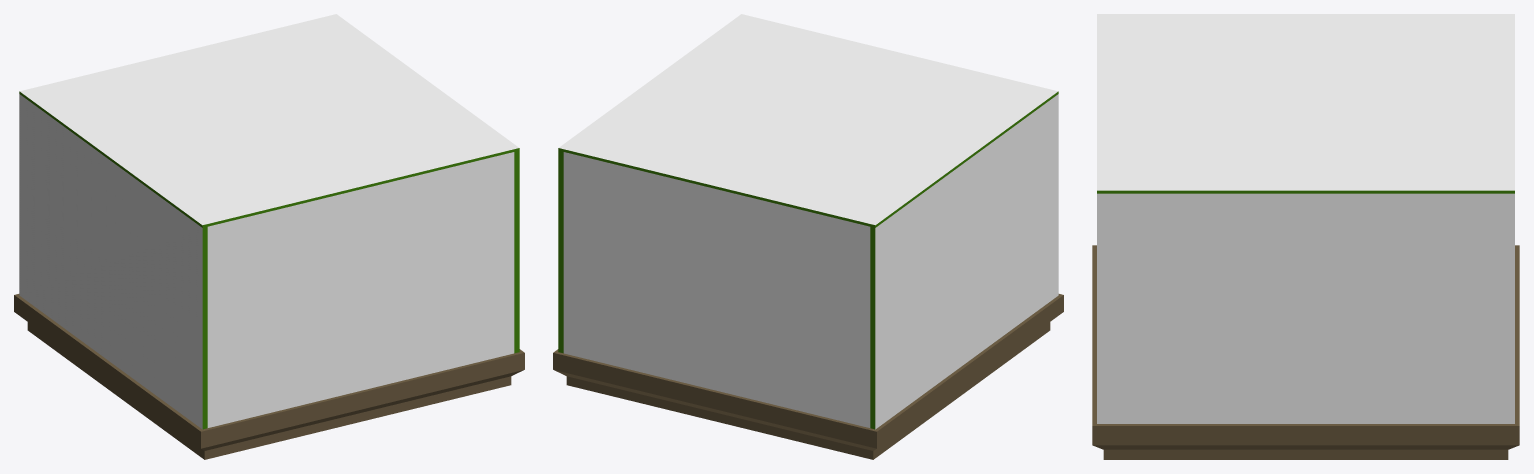
File: boss-lair.gltf
3 renders of one model, left to right at view 1: azimuth 30°, elevation 25°; view 2: azimuth 150°, elevation 25°; view 3: azimuth 270°, elevation 25°, orthographic. The views are drawn at different scales.
Size of the model in its own units: 332 by 234 by 332.
Materials: 2 (2 with a texture image).
